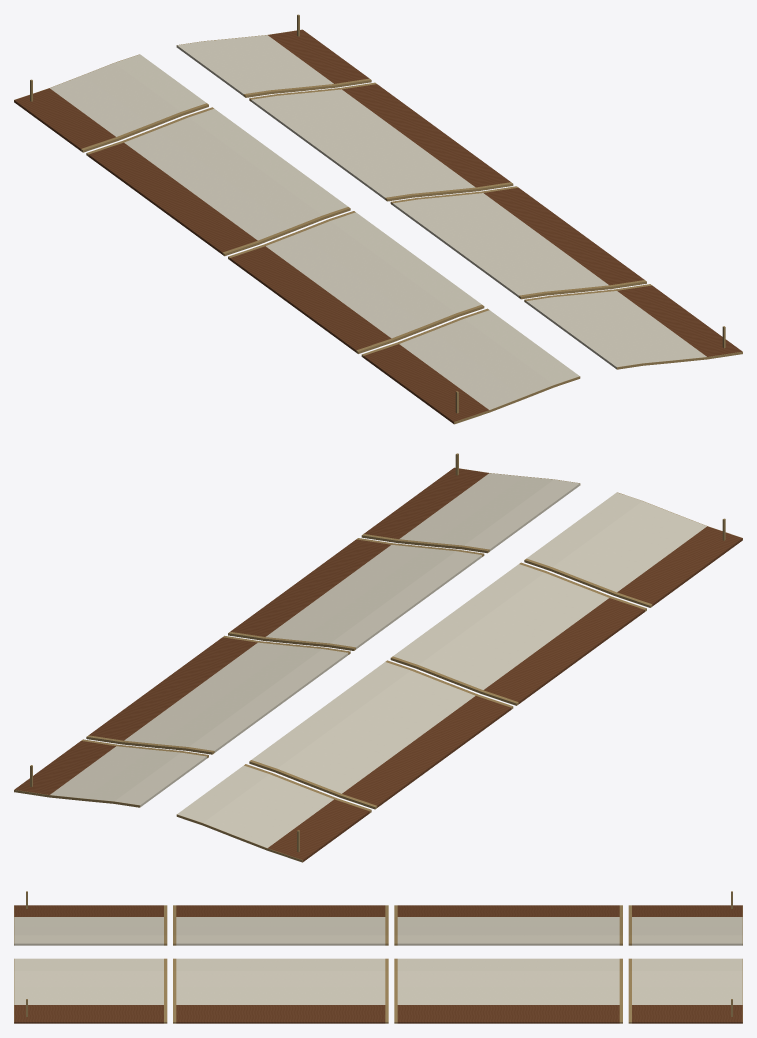
File: AST-AQU-016_pool_roof_composition.glb
The picture shows the model from 3 angles, top to bottom: view 1: azimuth 30°, elevation 25°; view 2: azimuth 150°, elevation 25°; view 3: azimuth 270°, elevation 25°; orthographic projection. The views are drawn at different scales.
Parts seen in each view (by area): view 1: GPA_roof_BATCH_004_ivory_enamel, GPA_roof_BATCH_007_ivory_enamel, GPA_roof_BATCH_016_ivory_enamel, GPA_roof_BATCH_019_ivory_enamel, GPA_roof_BATCH_010_ivory_enamel, GPA_roof_BATCH_022_ivory_enamel, GPA_roof_BATCH_001_ivory_enamel, GPA_roof_BATCH_005_warm_walnut, GPA_roof_BATCH_013_ivory_enamel, GPA_roof_BATCH_008_warm_walnut, GPA_roof_BATCH_017_warm_walnut, GPA_roof_BATCH_020_warm_walnut (+10 smaller); view 2: GPA_roof_BATCH_004_ivory_enamel, GPA_roof_BATCH_007_ivory_enamel, GPA_roof_BATCH_016_ivory_enamel, GPA_roof_BATCH_019_ivory_enamel, GPA_roof_BATCH_010_ivory_enamel, GPA_roof_BATCH_022_ivory_enamel, GPA_roof_BATCH_001_ivory_enamel, GPA_roof_BATCH_005_warm_walnut, GPA_roof_BATCH_013_ivory_enamel, GPA_roof_BATCH_008_warm_walnut, GPA_roof_BATCH_017_warm_walnut, GPA_roof_BATCH_020_warm_walnut (+10 smaller); view 3: GPA_roof_BATCH_016_ivory_enamel, GPA_roof_BATCH_019_ivory_enamel, GPA_roof_BATCH_022_ivory_enamel, GPA_roof_BATCH_004_ivory_enamel, GPA_roof_BATCH_007_ivory_enamel, GPA_roof_BATCH_013_ivory_enamel, GPA_roof_BATCH_010_ivory_enamel, GPA_roof_BATCH_017_warm_walnut, GPA_roof_BATCH_020_warm_walnut, GPA_roof_BATCH_001_ivory_enamel, GPA_roof_BATCH_023_warm_walnut, GPA_roof_BATCH_005_warm_walnut (+10 smaller).
Boxes of the visible parts, x1,y1,x2,y2 form: GPA_roof_BATCH_004_ivory_enamel: [124, 108, 347, 240]; GPA_roof_BATCH_007_ivory_enamel: [266, 212, 481, 338]; GPA_roof_BATCH_016_ivory_enamel: [251, 89, 475, 199]; GPA_roof_BATCH_019_ivory_enamel: [392, 193, 608, 297]; GPA_roof_BATCH_010_ivory_enamel: [399, 310, 579, 409]; GPA_roof_BATCH_022_ivory_enamel: [526, 291, 706, 368]; GPA_roof_BATCH_001_ivory_enamel: [50, 54, 206, 136]; GPA_roof_BATCH_005_warm_walnut: [88, 142, 257, 254]; GPA_roof_BATCH_013_ivory_enamel: [177, 35, 333, 95]; GPA_roof_BATCH_008_warm_walnut: [230, 246, 391, 352]; GPA_roof_BATCH_017_warm_walnut: [342, 84, 510, 187]; GPA_roof_BATCH_020_warm_walnut: [484, 187, 644, 285]; GPA_roof_BATCH_004_ivory_enamel: [251, 662, 475, 793]; GPA_roof_BATCH_007_ivory_enamel: [393, 564, 608, 689]; GPA_roof_BATCH_016_ivory_enamel: [124, 642, 348, 752]; GPA_roof_BATCH_019_ivory_enamel: [266, 545, 481, 649]; GPA_roof_BATCH_010_ivory_enamel: [526, 492, 706, 592]; GPA_roof_BATCH_022_ivory_enamel: [399, 473, 579, 551]; GPA_roof_BATCH_001_ivory_enamel: [177, 765, 333, 847]; GPA_roof_BATCH_005_warm_walnut: [342, 696, 511, 807]; GPA_roof_BATCH_013_ivory_enamel: [50, 746, 206, 806]; GPA_roof_BATCH_008_warm_walnut: [483, 598, 644, 703]; GPA_roof_BATCH_017_warm_walnut: [89, 637, 257, 740]; GPA_roof_BATCH_020_warm_walnut: [230, 539, 391, 636]; GPA_roof_BATCH_016_ivory_enamel: [397, 958, 619, 1004]; GPA_roof_BATCH_019_ivory_enamel: [176, 958, 385, 1004]; GPA_roof_BATCH_022_ivory_enamel: [14, 958, 163, 1004]; GPA_roof_BATCH_004_ivory_enamel: [397, 917, 619, 945]; GPA_roof_BATCH_007_ivory_enamel: [176, 917, 385, 945]; GPA_roof_BATCH_013_ivory_enamel: [632, 958, 742, 1004]; GPA_roof_BATCH_010_ivory_enamel: [14, 917, 163, 945]; GPA_roof_BATCH_017_warm_walnut: [397, 1005, 619, 1023]; GPA_roof_BATCH_020_warm_walnut: [176, 1005, 385, 1023]; GPA_roof_BATCH_001_ivory_enamel: [632, 917, 742, 945]; GPA_roof_BATCH_023_warm_walnut: [14, 1005, 163, 1023]; GPA_roof_BATCH_005_warm_walnut: [397, 905, 619, 916].
Size of the model in its own units: 21.2 by 1.71 by 56.
Materials: 3 (3 with a texture image).
